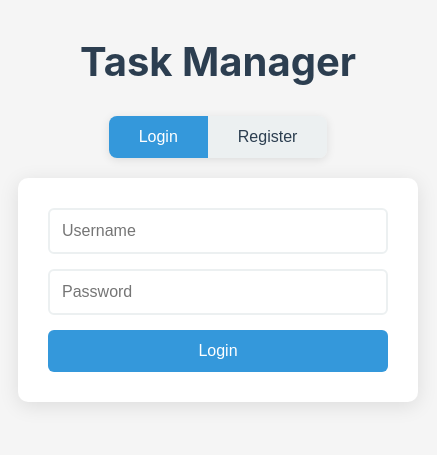
Task Manager App › can switch between login and register tabs
# Click register tab
Click the button "Register" at x=268, y=136, box [208, 116, 327, 158]
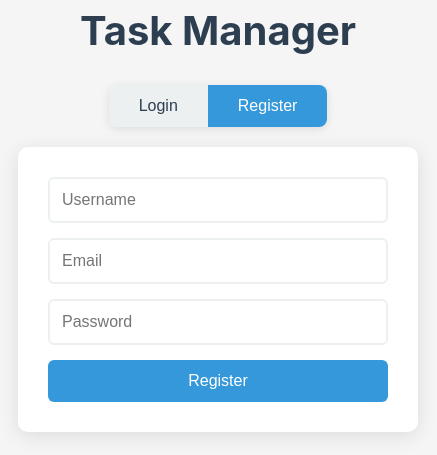
Expected: the field with placeholder "Email" is shown, [48, 238, 388, 284]
